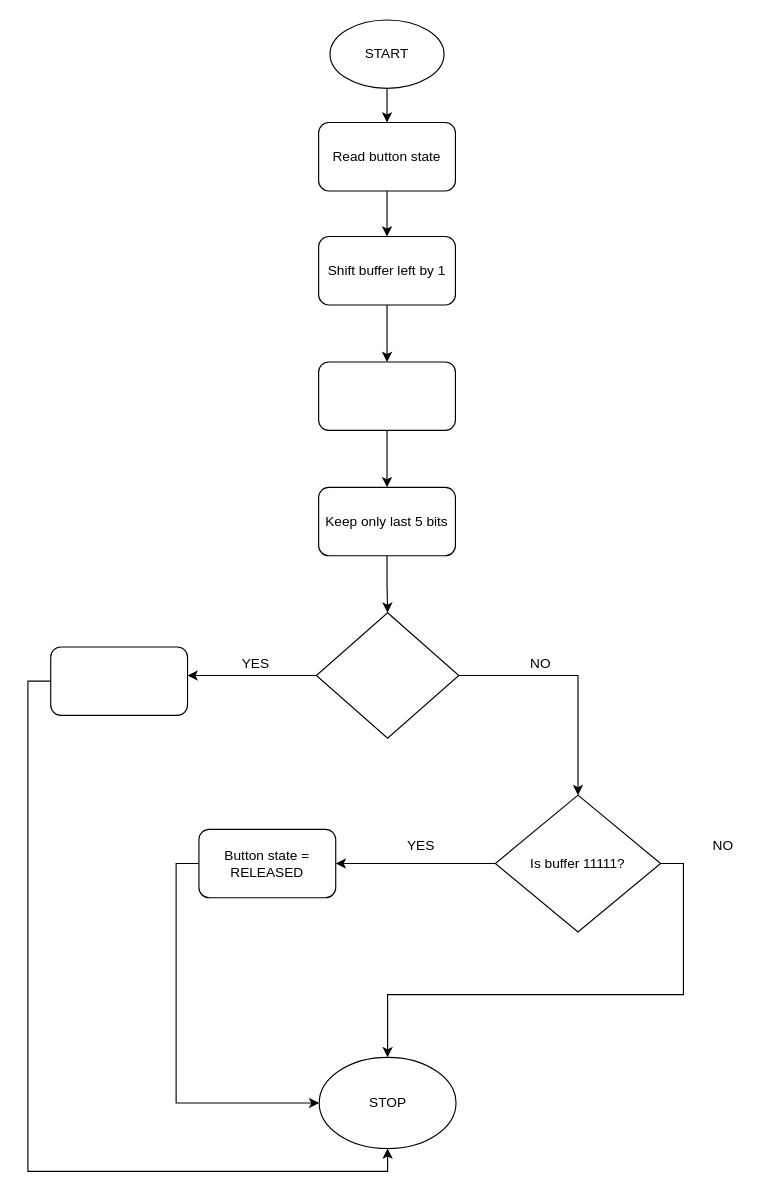
Some shapes in this 777 by 1200 pixel diagram are drawn without their labels. Here are the shapes that lost their labels. From the top down, the box of each, then its label:
(317, 361, 455, 430): Insert button state into buffer
(50, 646, 188, 715): Button state = PRESSED
(315, 612, 459, 738): Is buffer 00000?
